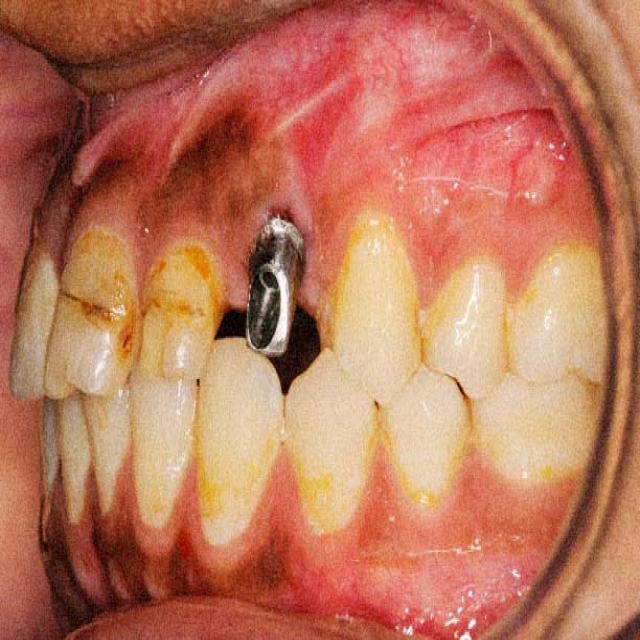caries: (59, 274, 135, 368), (141, 278, 205, 352)
